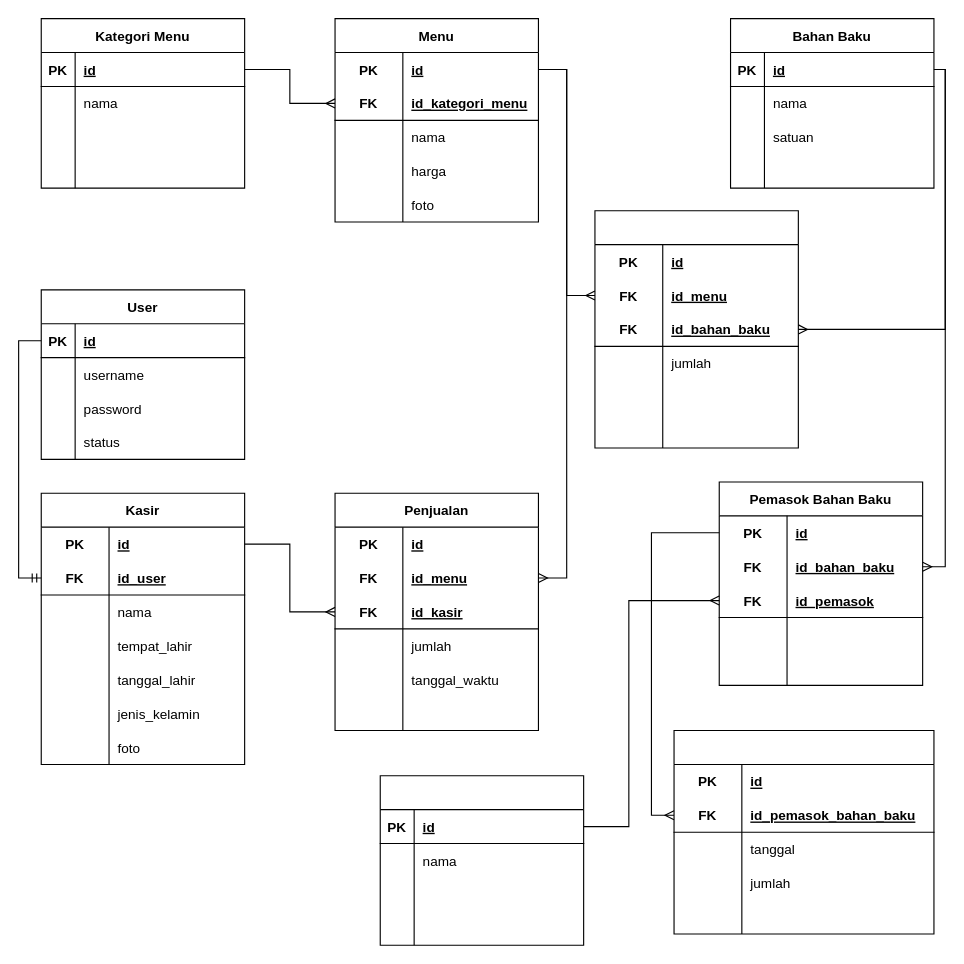
Image size: 964x964. Some labels were removed from this diagram. The shapes that lost their labels are listed below. From the top down, each one's box as (x1, y1, x2, y2) in pixels, then its label:
(594, 210, 798, 448): Bahan Baku Menu
(673, 729, 934, 934): Penyuplaian
(379, 775, 584, 945): Pemasok
